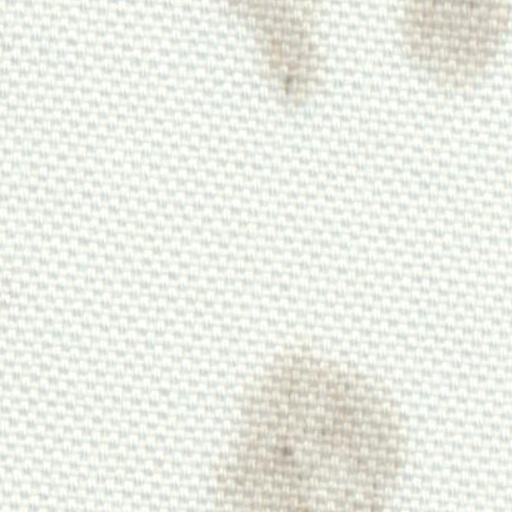WuZi: (190, 332, 416, 508), (220, 2, 341, 116), (385, 3, 508, 98)
